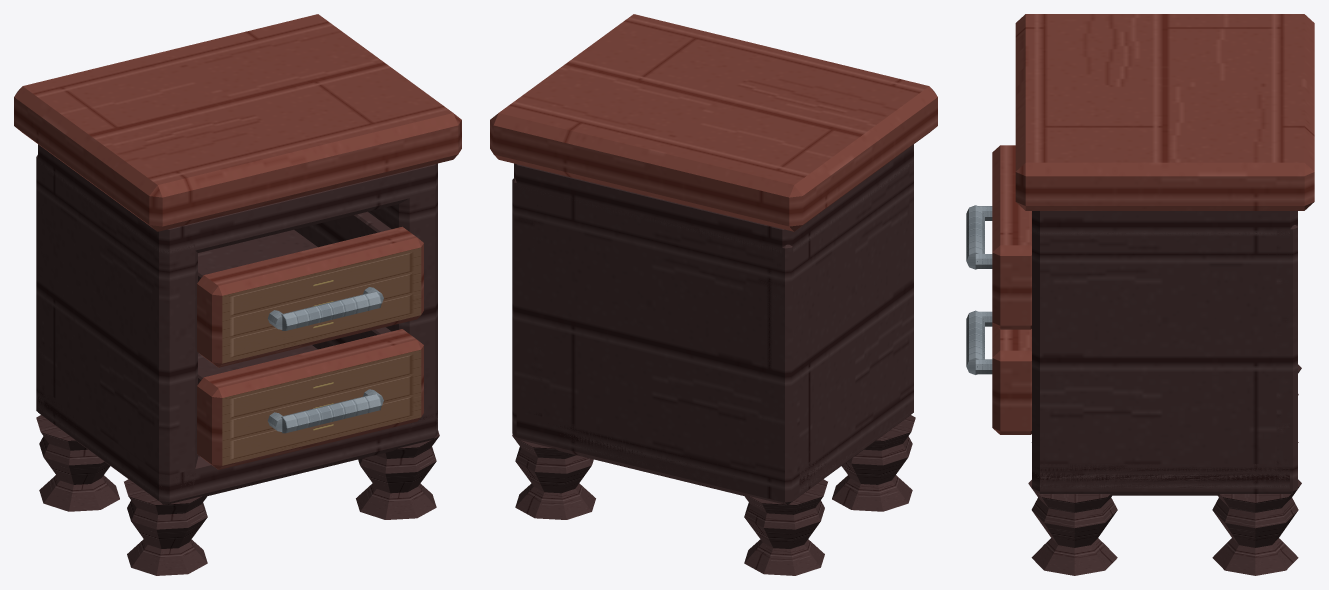
The model's file is MD_76_Nightstand.fbx.
3 views of the same model, side by side, from view 1: azimuth 30°, elevation 25°; view 2: azimuth 150°, elevation 25°; view 3: azimuth 270°, elevation 25° (orthographic). The views are drawn at different scales.
Visible parts, largest first — view 1: MD_76_Nightstand_cabinet_crown, MD_76_Nightstand_cabinet_side, MD_76_Nightstand_sliding_drawer.001, MD_76_Nightstand_sliding_drawer, MD_76_Nightstand_cabinet_shelf.001, MD_76_Nightstand_cabinet_shelf, MD_76_Nightstand_turned_leg, MD_76_Nightstand_cabinet_side.001, MD_76_Nightstand_turned_leg.002, MD_76_Nightstand_turned_leg.001, MD_76_Nightstand_drawer_tray_floor.001, MD_76_Nightstand_drawer_handle_grip (+4 smaller); view 2: MD_76_Nightstand_cabinet_back, MD_76_Nightstand_cabinet_crown, MD_76_Nightstand_cabinet_side, MD_76_Nightstand_cabinet_shelf.001, MD_76_Nightstand_turned_leg.001, MD_76_Nightstand_turned_leg.003, MD_76_Nightstand_turned_leg, MD_76_Nightstand_cabinet_shelf, MD_76_Nightstand_cabinet_side.001; view 3: MD_76_Nightstand_cabinet_side.001, MD_76_Nightstand_cabinet_crown, MD_76_Nightstand_cabinet_shelf, MD_76_Nightstand_cabinet_shelf.001, MD_76_Nightstand_sliding_drawer.001, MD_76_Nightstand_turned_leg.002, MD_76_Nightstand_turned_leg.003, MD_76_Nightstand_cabinet_back, MD_76_Nightstand_sliding_drawer, MD_76_Nightstand_drawer_handle_grip, MD_76_Nightstand_drawer_handle_grip.001.
Part boxes in pixels (box(x1,y1,x2,y2)): MD_76_Nightstand_cabinet_crown: box(14, 14, 461, 231); MD_76_Nightstand_cabinet_side: box(38, 161, 197, 497); MD_76_Nightstand_sliding_drawer.001: box(197, 226, 423, 367); MD_76_Nightstand_sliding_drawer: box(197, 329, 423, 469); MD_76_Nightstand_cabinet_shelf.001: box(38, 144, 437, 256); MD_76_Nightstand_cabinet_shelf: box(38, 386, 437, 504); MD_76_Nightstand_turned_leg: box(124, 479, 207, 575); MD_76_Nightstand_cabinet_side.001: box(368, 182, 437, 429); MD_76_Nightstand_turned_leg.002: box(356, 430, 439, 519); MD_76_Nightstand_turned_leg.001: box(36, 415, 119, 511); MD_76_Nightstand_drawer_tray_floor.001: box(198, 230, 317, 272); MD_76_Nightstand_drawer_handle_grip: box(281, 394, 381, 433); MD_76_Nightstand_cabinet_back: box(512, 178, 799, 504); MD_76_Nightstand_cabinet_crown: box(490, 14, 937, 231); MD_76_Nightstand_cabinet_side: box(756, 161, 913, 493); MD_76_Nightstand_cabinet_shelf.001: box(514, 144, 913, 256); MD_76_Nightstand_turned_leg.001: box(744, 479, 827, 575); MD_76_Nightstand_turned_leg.003: box(512, 434, 595, 519); MD_76_Nightstand_turned_leg: box(832, 415, 915, 511); MD_76_Nightstand_cabinet_shelf: box(516, 409, 913, 504); MD_76_Nightstand_cabinet_side.001: box(517, 192, 542, 416); MD_76_Nightstand_cabinet_side.001: box(1032, 229, 1289, 488); MD_76_Nightstand_cabinet_crown: box(1015, 14, 1314, 210); MD_76_Nightstand_cabinet_shelf: box(1032, 460, 1290, 495); MD_76_Nightstand_cabinet_shelf.001: box(1032, 211, 1297, 238); MD_76_Nightstand_sliding_drawer.001: box(992, 145, 1031, 329); MD_76_Nightstand_turned_leg.002: box(1028, 480, 1117, 575); MD_76_Nightstand_turned_leg.003: box(1212, 479, 1301, 575); MD_76_Nightstand_cabinet_back: box(1276, 225, 1297, 493); MD_76_Nightstand_sliding_drawer: box(992, 323, 1031, 434); MD_76_Nightstand_drawer_handle_grip: box(966, 310, 984, 374); MD_76_Nightstand_drawer_handle_grip.001: box(966, 205, 984, 269).
Size of the model in its own units: 0.56 by 0.69 by 0.524.
4 materials, 4 textured.
